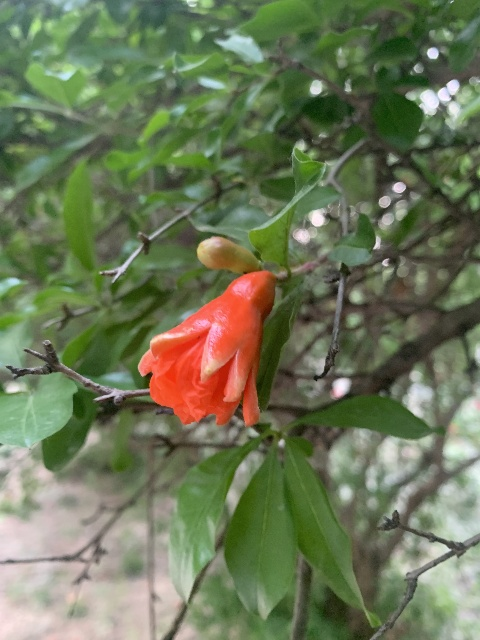bud: (196, 236, 257, 273)
flower: (139, 270, 275, 428)
